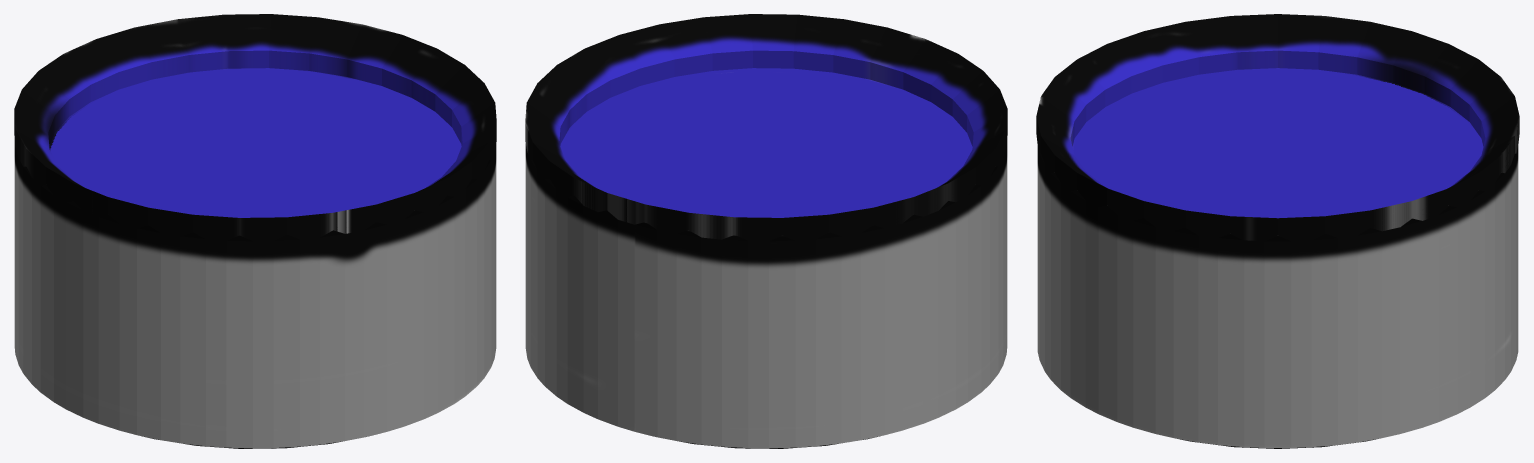
File: Trampoline.glb
3 renders of one model, left to right at view 1: azimuth 30°, elevation 25°; view 2: azimuth 150°, elevation 25°; view 3: azimuth 270°, elevation 25°, orthographic.
Visible parts, largest first — view 1: Cylinder; view 2: Cylinder; view 3: Cylinder.
Part boxes in pixels (x1,y1,x2,y2): Cylinder: [14, 14, 496, 448]; Cylinder: [525, 14, 1007, 448]; Cylinder: [1036, 14, 1519, 448].
Size of the model in its own units: 4 by 2.16 by 4.
1 material, 1 textured.
